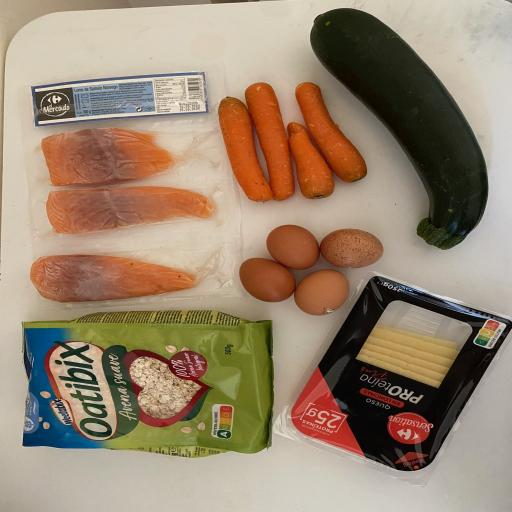carrot: (291, 80, 369, 188), (241, 78, 295, 204), (215, 92, 273, 205), (286, 118, 338, 202)
cheese: (290, 274, 510, 476)
courgette: (308, 5, 496, 251)
egg: (314, 226, 388, 272), (292, 266, 352, 319), (236, 253, 296, 305), (266, 222, 324, 271)
oat: (16, 306, 277, 460)
salmon: (43, 184, 219, 238), (29, 252, 202, 306), (39, 125, 179, 188)
